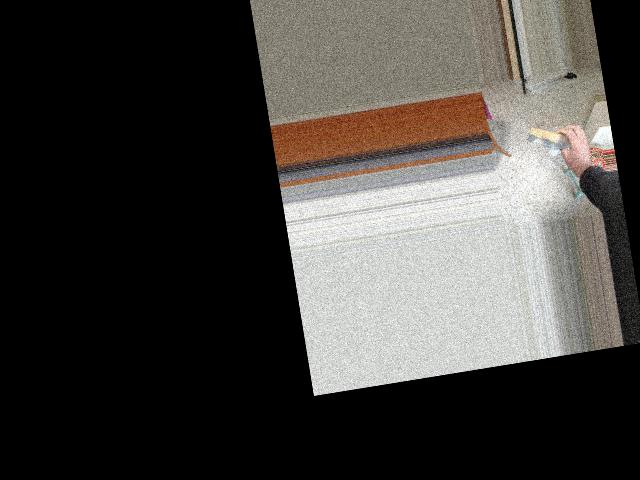cheese: (521, 116, 580, 159)
